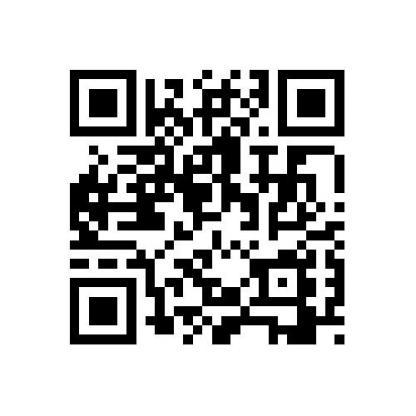qr_code: (69, 69, 346, 345)
